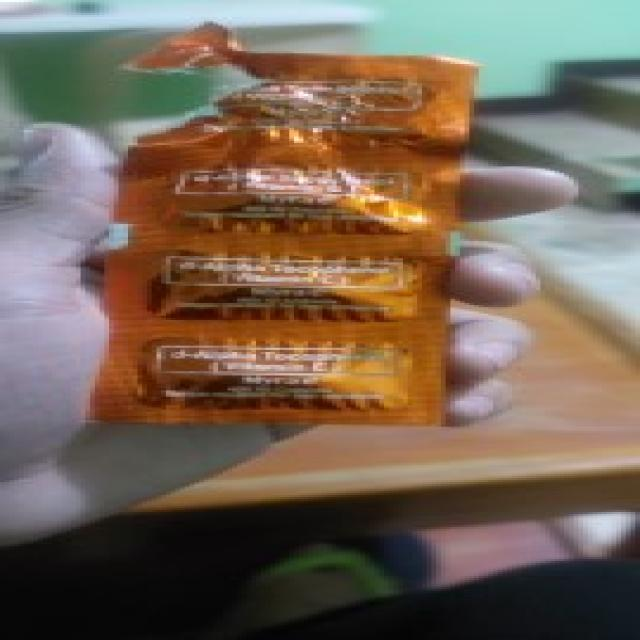Cacat: (91, 16, 481, 436)
Kemasan: (115, 19, 289, 147)
